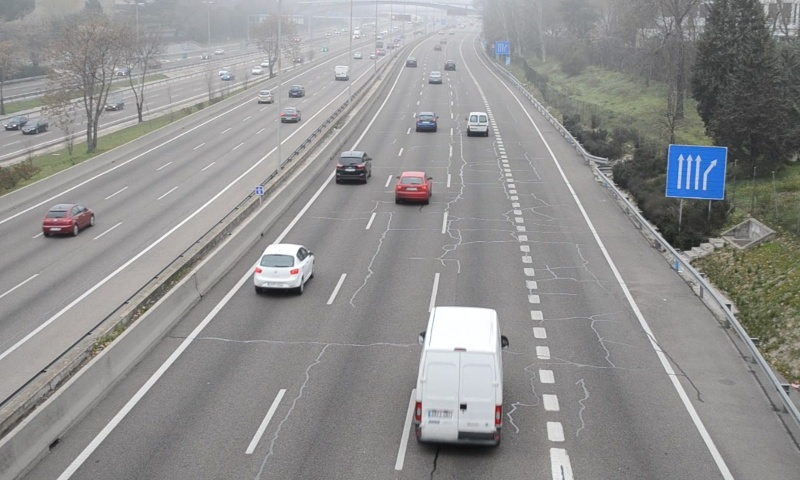car: (254, 244, 313, 289), (395, 170, 430, 202), (335, 151, 370, 182), (415, 111, 437, 132)
van: (415, 306, 504, 445), (466, 111, 490, 137)
